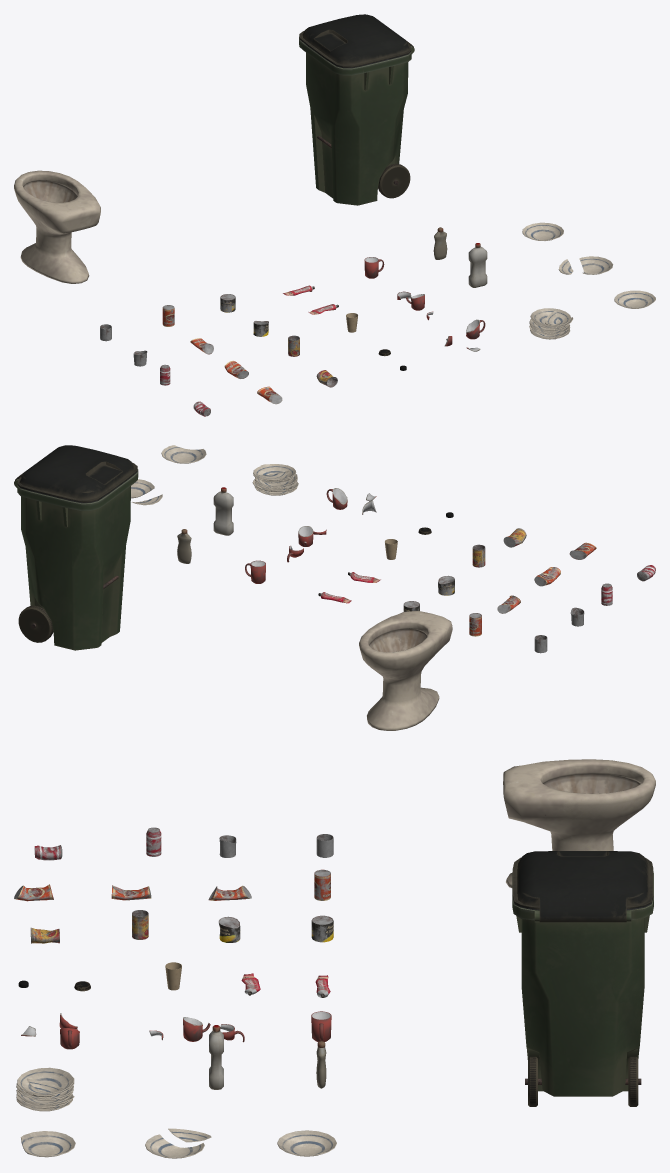
Rendered from Garbage_3.fbx.
3 views of the same model, one above another, from view 1: azimuth 30°, elevation 25°; view 2: azimuth 150°, elevation 25°; view 3: azimuth 270°, elevation 25° (orthographic). The views are drawn at different scales.
Parts seen in each view (by area): view 1: Trash_Can, Toilet, Trash_can_Lid, Plates, Bottle_02, Plate, Broken_Plate_03; view 2: Trash_Can, Toilet, Trash_can_Lid, Plates, Bottle_02, Broken_Plate_03, Bottle_01; view 3: Trash_Can, Toilet, Trash_can_Lid, Plates, Plate, Broken_Plate_03, Bottle_02, Broken_Plate_01, Mug.
Boxes of the visible parts, bbox=[...] form: Trash_Can: bbox=[299, 37, 414, 205]; Toilet: bbox=[14, 170, 100, 283]; Trash_can_Lid: bbox=[299, 14, 413, 68]; Plates: bbox=[529, 308, 573, 339]; Bottle_02: bbox=[468, 243, 487, 287]; Plate: bbox=[522, 222, 563, 240]; Broken_Plate_03: bbox=[614, 290, 655, 308]; Trash_Can: bbox=[14, 469, 138, 650]; Toilet: bbox=[359, 611, 452, 730]; Trash_can_Lid: bbox=[15, 445, 137, 503]; Plates: bbox=[252, 464, 298, 495]; Bottle_02: bbox=[213, 487, 233, 535]; Broken_Plate_03: bbox=[161, 445, 206, 463]; Bottle_01: bbox=[177, 529, 191, 563]; Trash_Can: bbox=[512, 871, 653, 1106]; Toilet: bbox=[503, 759, 655, 887]; Trash_can_Lid: bbox=[512, 851, 653, 922]; Plates: bbox=[16, 1067, 74, 1111]; Plate: bbox=[277, 1130, 336, 1156]; Broken_Plate_03: bbox=[21, 1131, 75, 1157]; Bottle_02: bbox=[209, 1025, 223, 1089]; Broken_Plate_01: bbox=[145, 1134, 204, 1158]; Mug: bbox=[311, 1011, 331, 1042].
Size of the model in its own units: 364 by 127 by 312.
Materials: 1 (1 with a texture image).
